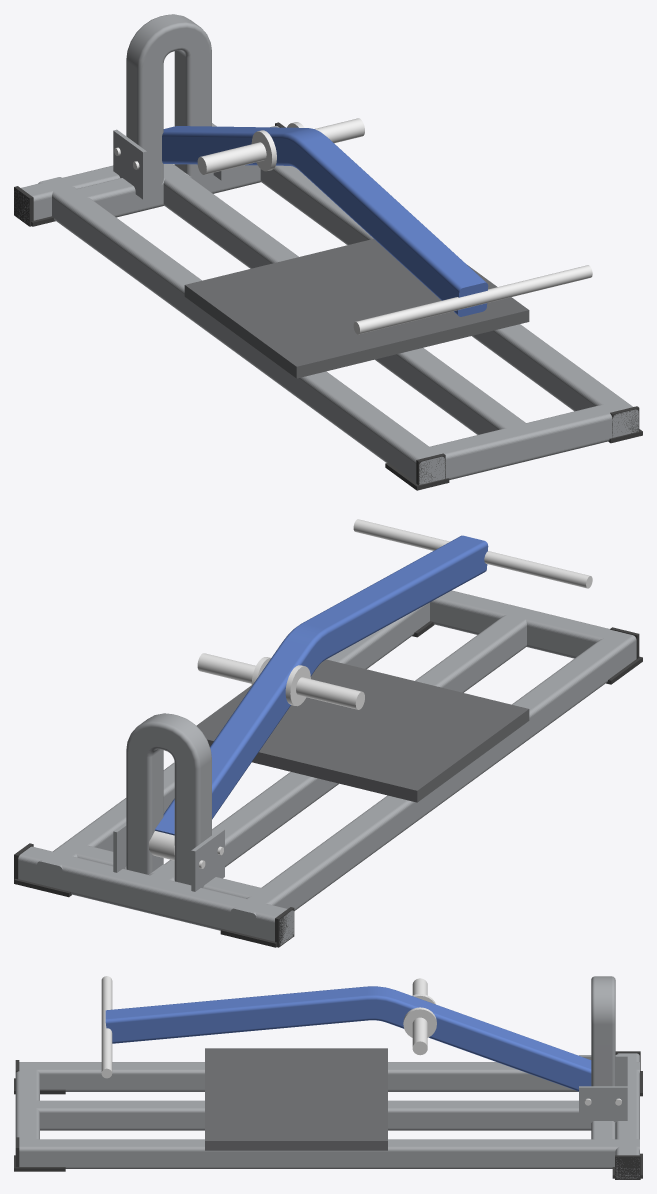
3 views of the same model, one above another, from view 1: azimuth 30°, elevation 25°; view 2: azimuth 150°, elevation 25°; view 3: azimuth 270°, elevation 25° (orthographic). The views are drawn at different scales.
Visible parts, largest first — view 1: base, platform_plate, lever_bar_tube, arch_tube, lever_handle, lever_support, lever_horn (×2), gusset; view 2: base, platform_plate, lever_bar_tube, arch_tube, lever_horn (×2), lever_handle, gusset (×2), lever_support, lever_hub; view 3: base, platform_plate, lever_bar_tube, arch_tube, gusset (×2), lever_horn (×2), lever_handle, end_cap, lever_support.
Boxes of the visible parts, bbox=[...] form: base: bbox=[14, 125, 638, 484]; platform_plate: bbox=[184, 239, 529, 378]; lever_bar_tube: bbox=[162, 126, 488, 316]; arch_tube: bbox=[126, 14, 211, 197]; lever_handle: bbox=[353, 265, 592, 334]; lever_support: bbox=[76, 165, 260, 217]; lever_horn (×2): bbox=[197, 118, 364, 174]; gusset: bbox=[113, 129, 146, 199]; base: bbox=[18, 590, 636, 945]; platform_plate: bbox=[196, 659, 529, 802]; lever_bar_tube: bbox=[155, 535, 488, 835]; arch_tube: bbox=[126, 713, 211, 885]; lever_horn (×2): bbox=[197, 653, 364, 709]; lever_handle: bbox=[353, 519, 592, 588]; gusset (×2): bbox=[113, 822, 224, 891]; lever_support: bbox=[67, 843, 270, 898]; lever_hub: bbox=[148, 831, 174, 860]; base: bbox=[15, 1053, 639, 1179]; platform_plate: bbox=[205, 1048, 387, 1150]; lever_bar_tube: bbox=[105, 986, 591, 1091]; arch_tube: bbox=[591, 976, 615, 1086]; gusset (×2): bbox=[579, 1055, 627, 1126]; lever_horn (×2): bbox=[403, 978, 436, 1055]; lever_handle: bbox=[101, 976, 112, 1078]; end_cap: bbox=[615, 1155, 640, 1179]; lever_support: bbox=[591, 1121, 615, 1142].
Bounding box in the file's own units: 0.82 × 0.5319 × 2.06.
